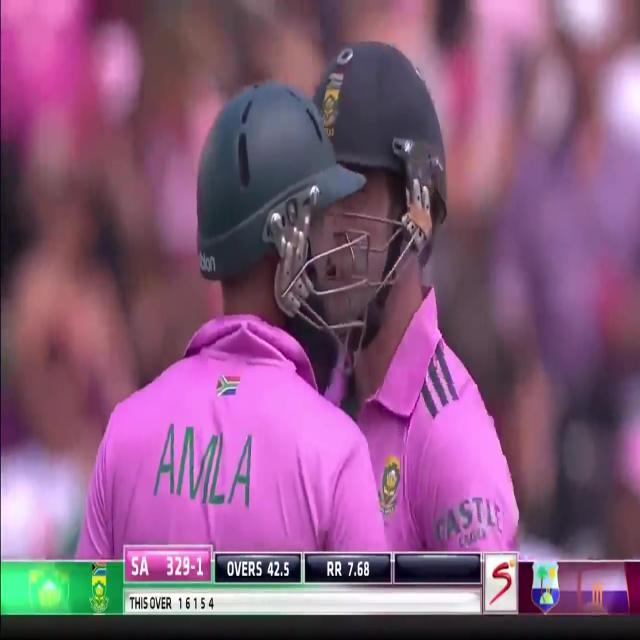Ball: (79, 66, 386, 558)
